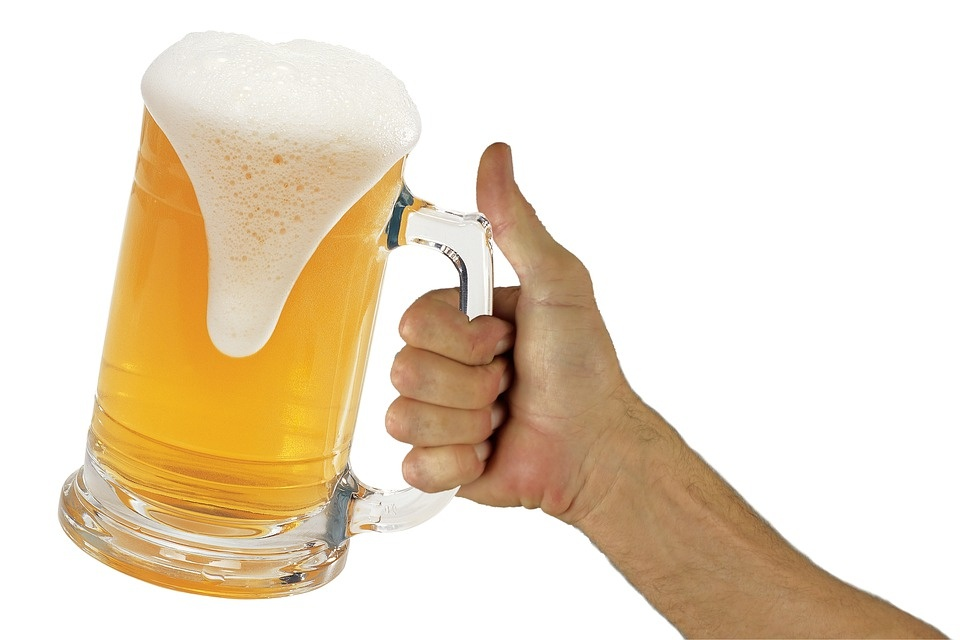glassBeer: (48, 44, 405, 588)
